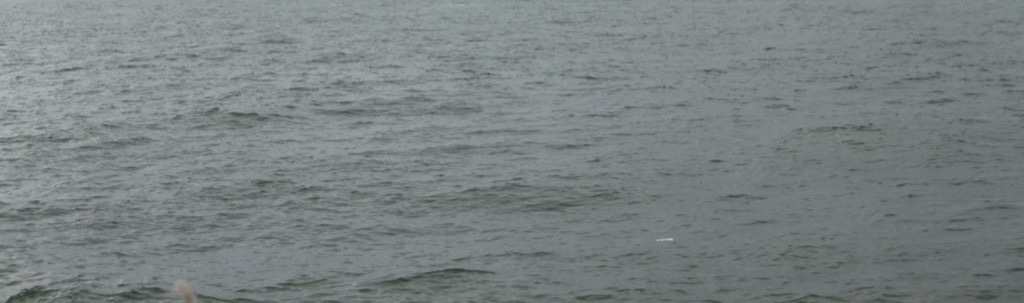plastic: (643, 228, 684, 250)
